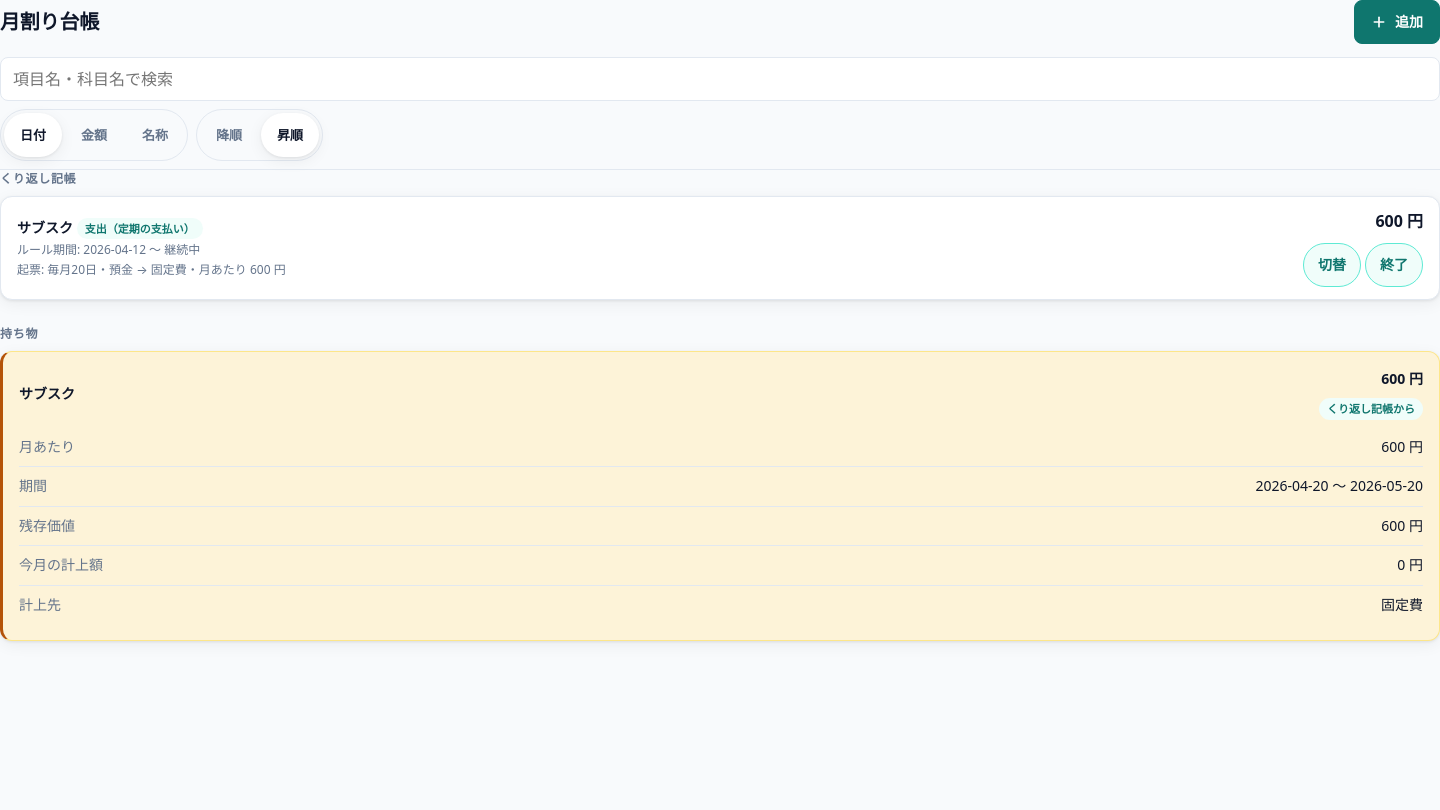
Test: 定期ルールの終了（終了日シート） › 終了ボタンでシートが開き、既定は今日で置ける最小の排他的終了点
Click the button "終了" at point(1394, 265), box top-left (1365, 243), bottom-right (1423, 287)
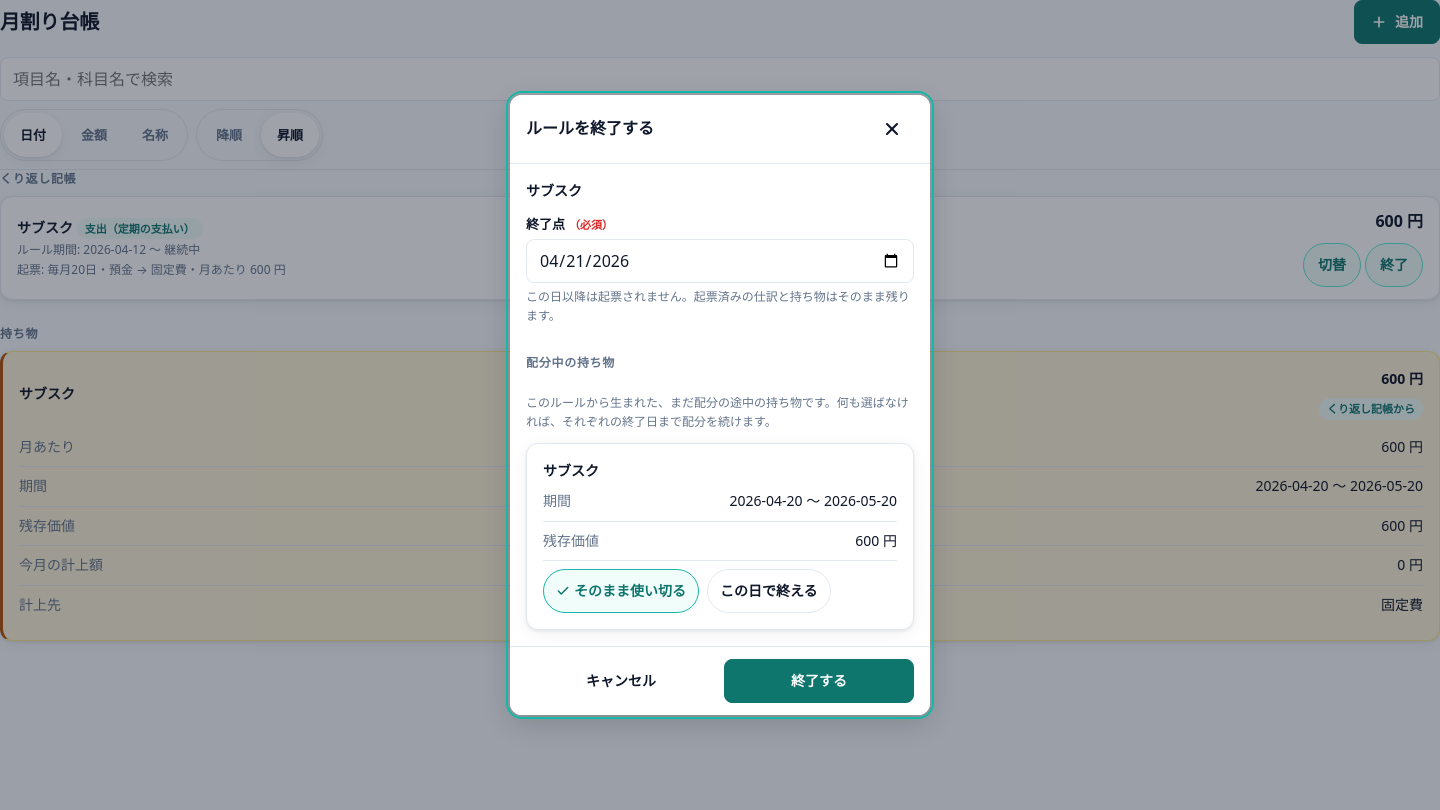
Expected: the text "この日以降は起票されません" is shown, top-left (526, 288), bottom-right (910, 324)
